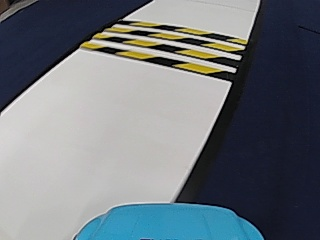bump: (111, 21, 233, 79)
